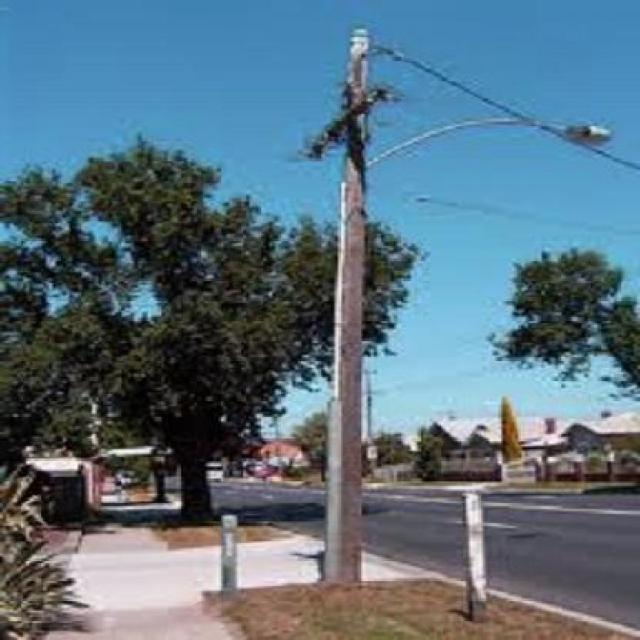light_pole: (317, 11, 402, 598)
